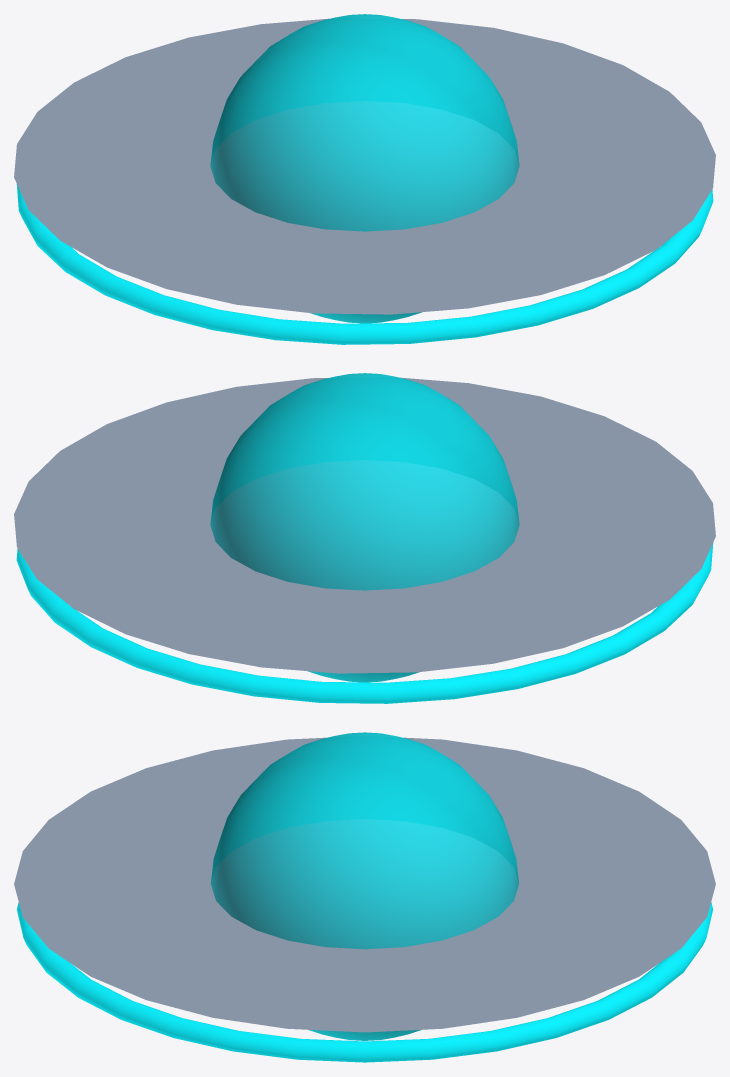
File: ufo.glb
The picture shows the model from 3 angles, top to bottom: view 1: azimuth 30°, elevation 25°; view 2: azimuth 150°, elevation 25°; view 3: azimuth 270°, elevation 25°; orthographic projection.
Size of the model in its own units: 1 by 0.44 by 1.
